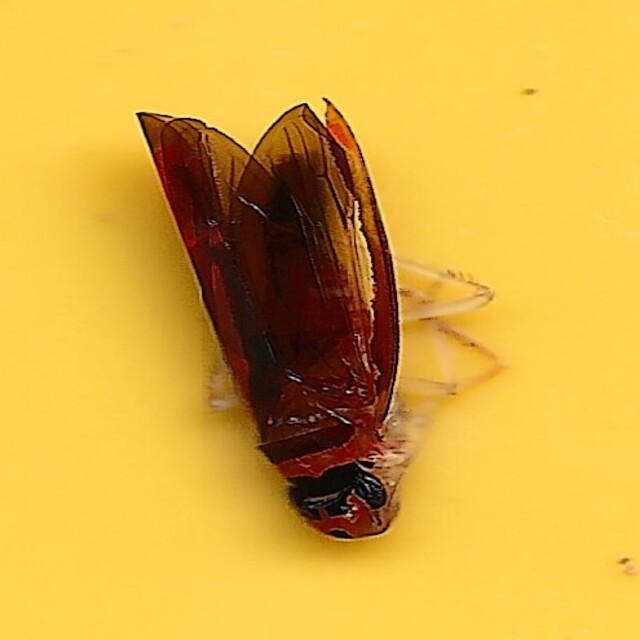Hemiptera: (129, 97, 511, 543)
